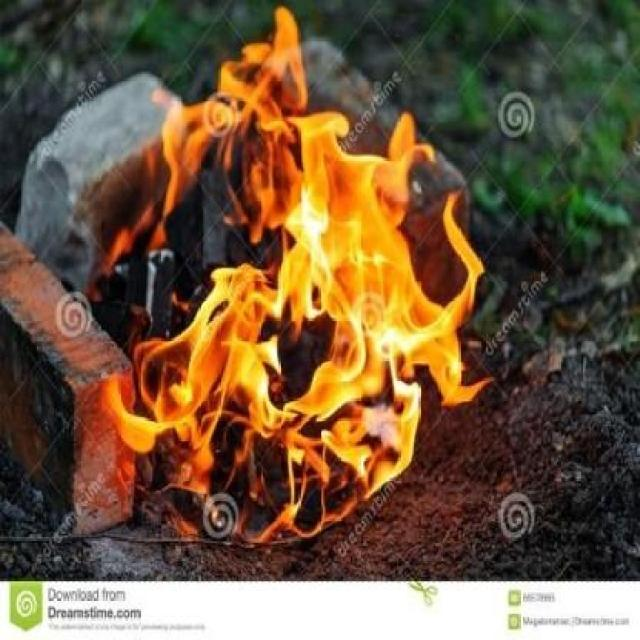Fire: (100, 7, 492, 547)
